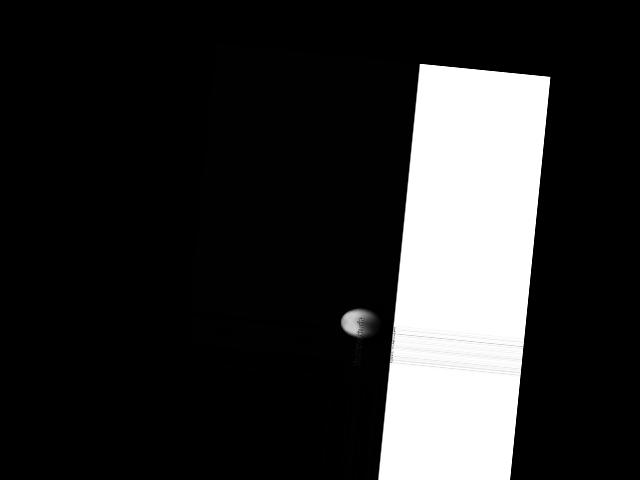egg: (338, 306, 382, 340)
